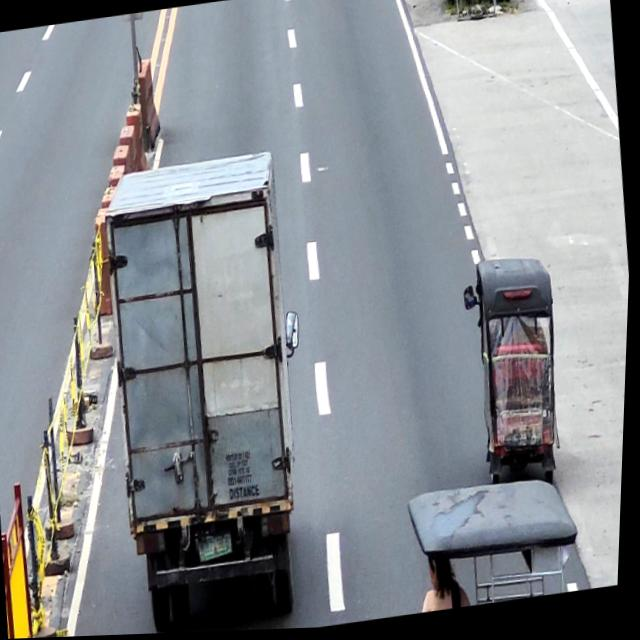E-bike: (458, 252, 577, 491)
License-Plate: (200, 534, 239, 562)
Truck: (88, 146, 336, 637)
